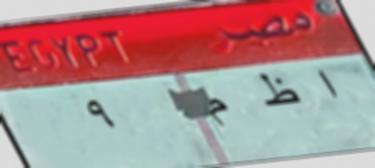9: (82, 92, 126, 128)
Thaa: (253, 66, 304, 112)
alif: (312, 66, 344, 103)
meem: (205, 94, 233, 128)
